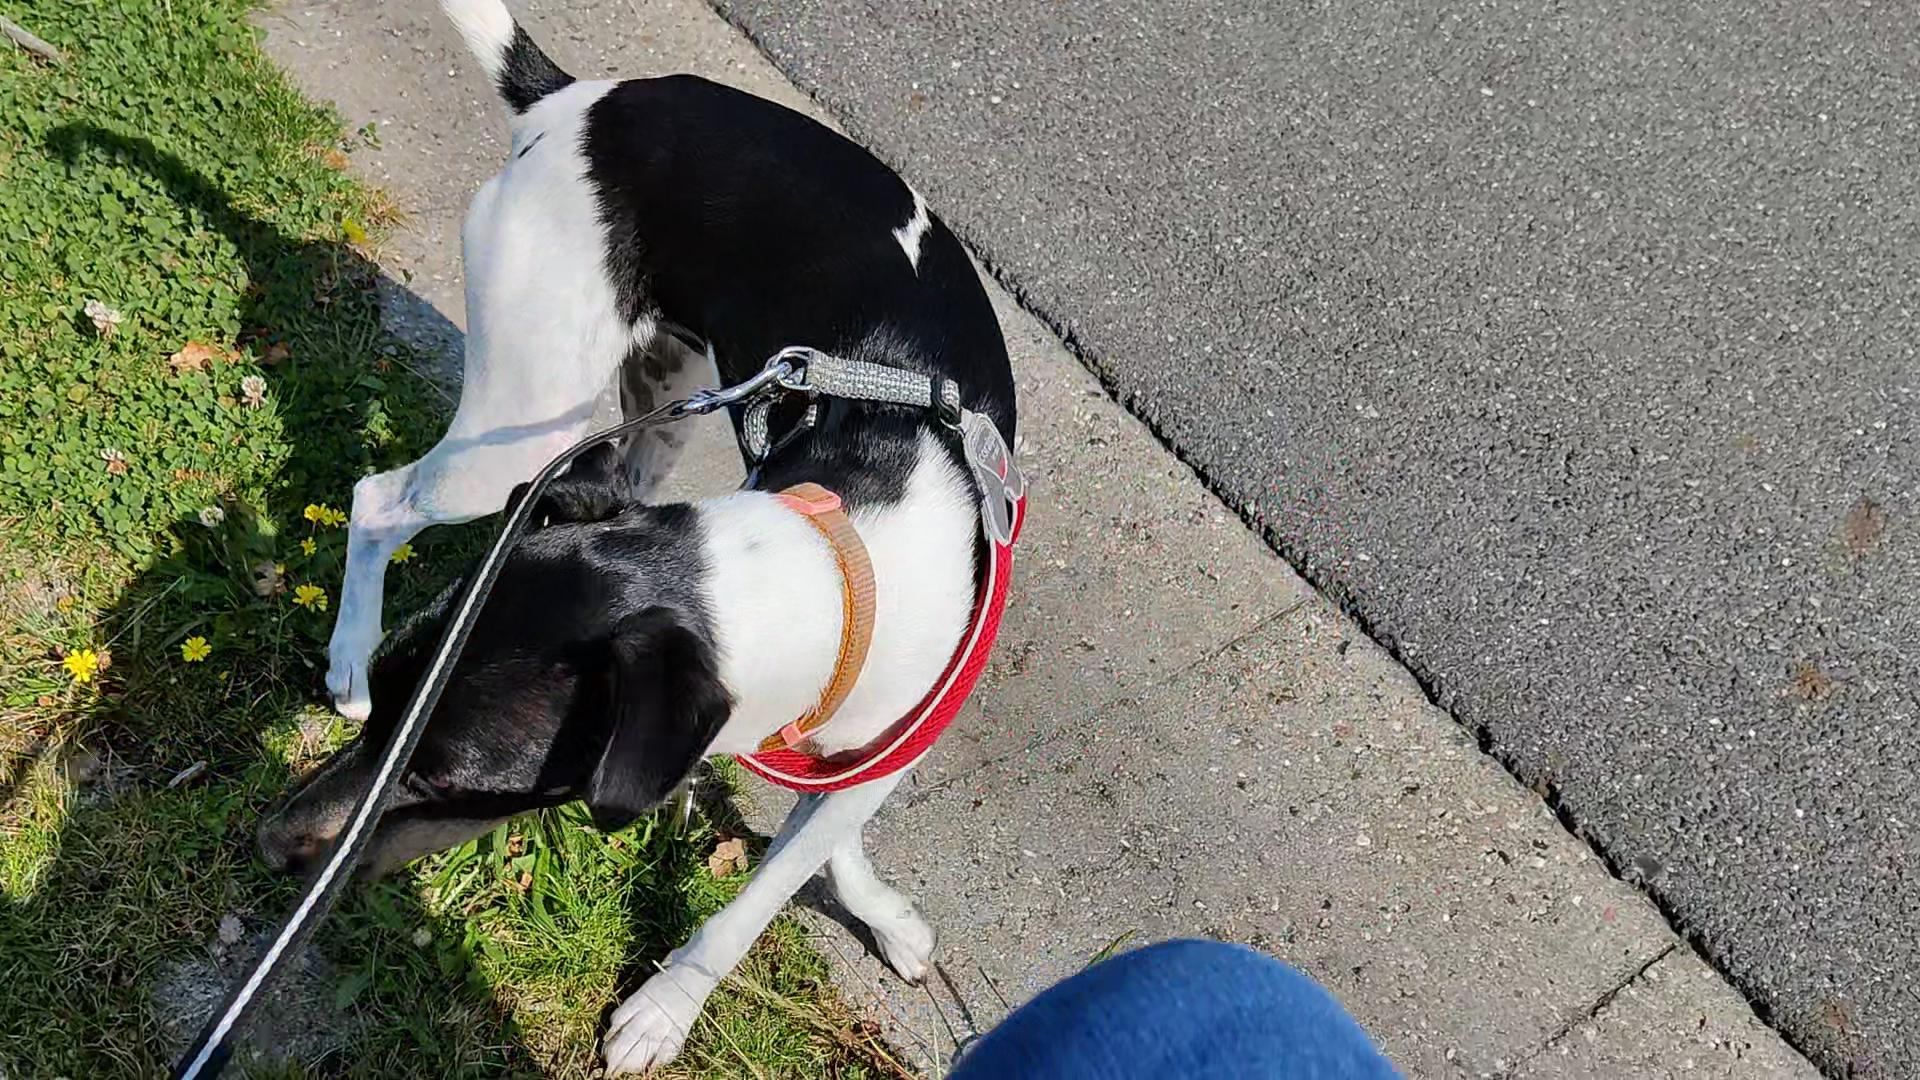Dog: (239, 0, 1043, 1080)
